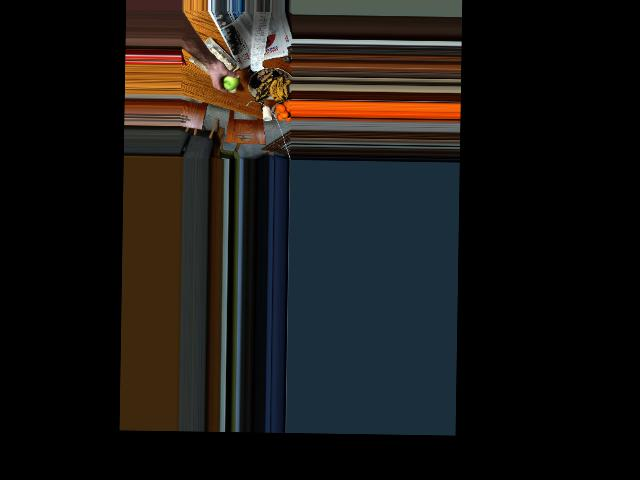apple: (216, 69, 240, 90)
